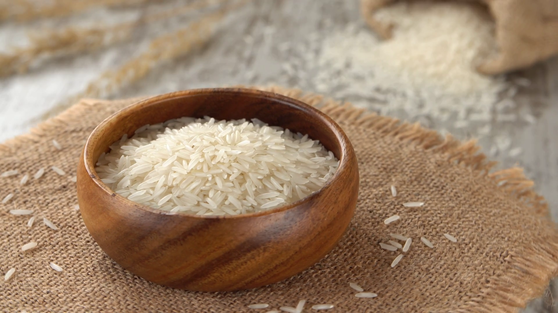rice: (83, 107, 348, 222)
